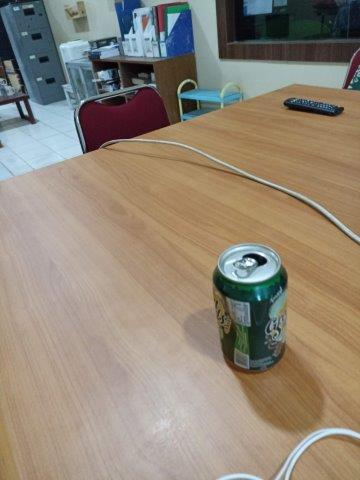kaleng: (212, 242, 288, 375)
